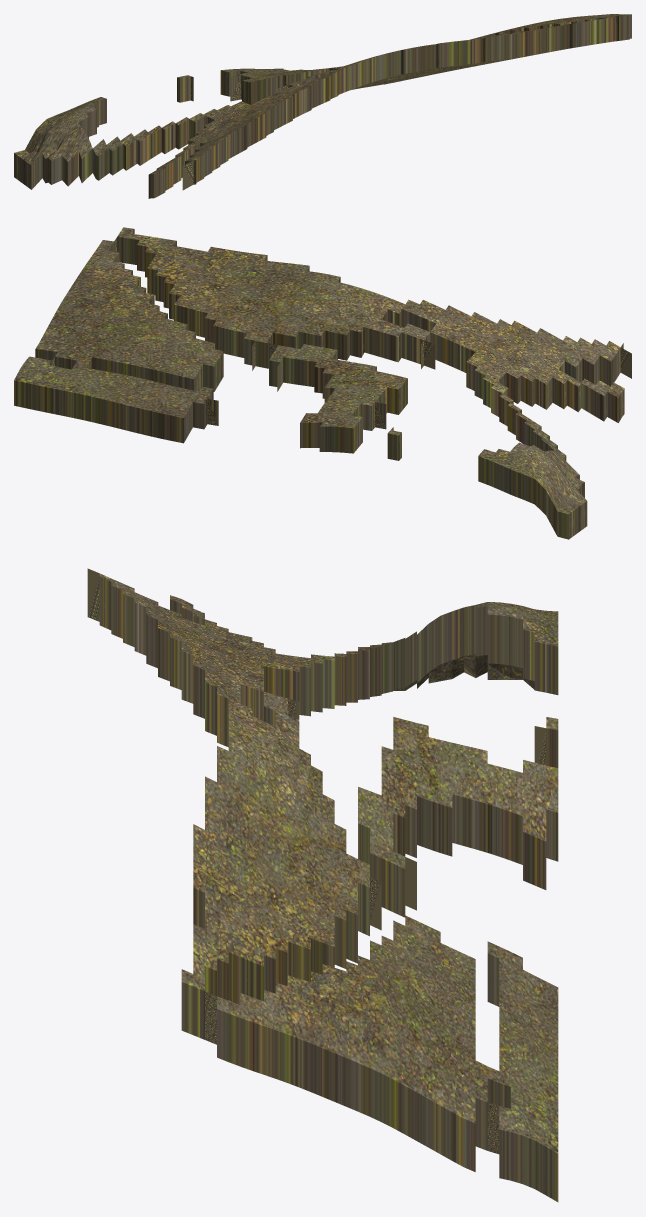
Rendered from wood01.dae.
3 views of the same model, one above another, from view 1: azimuth 30°, elevation 25°; view 2: azimuth 150°, elevation 25°; view 3: azimuth 270°, elevation 25° (orthographic). The views are drawn at different scales.
Visible parts, largest first — view 1: Woods_Area_2; view 2: Woods_Area_2; view 3: Woods_Area_2.
Part boxes in pixels (<box>): Woods_Area_2: <box>14,14,631,198</box>; Woods_Area_2: <box>14,227,631,539</box>; Woods_Area_2: <box>87,568,558,1202</box>.
Bounding box in the file's own units: 184 × 70.26 × 38.76.
Materials: 1 (1 with a texture image).
